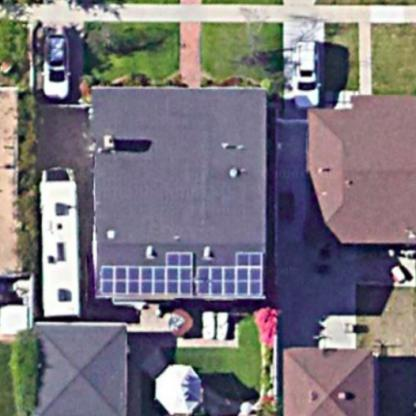car: (37, 160, 92, 320), (291, 32, 328, 115), (38, 25, 74, 103)
solar_panel: (100, 238, 268, 305)
